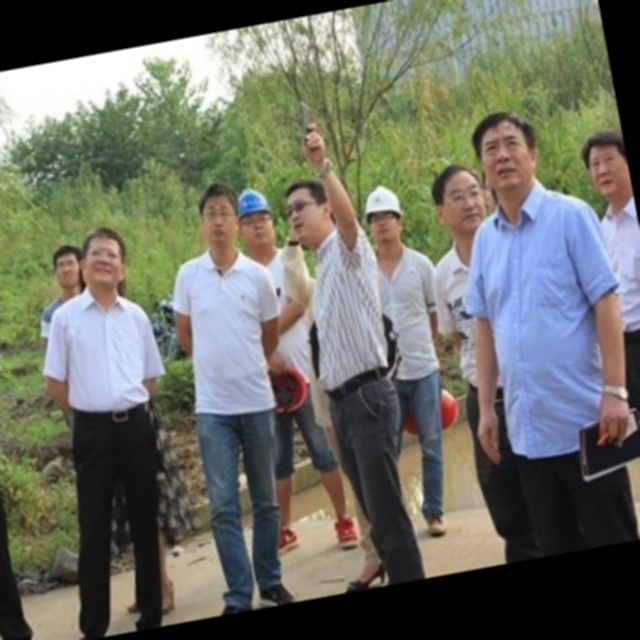Con_Casco: (359, 178, 408, 247)
Sin_Casco_Mascarrilla: (467, 105, 548, 202)
Sin_Chaleco: (172, 244, 291, 405), (49, 287, 166, 421)
